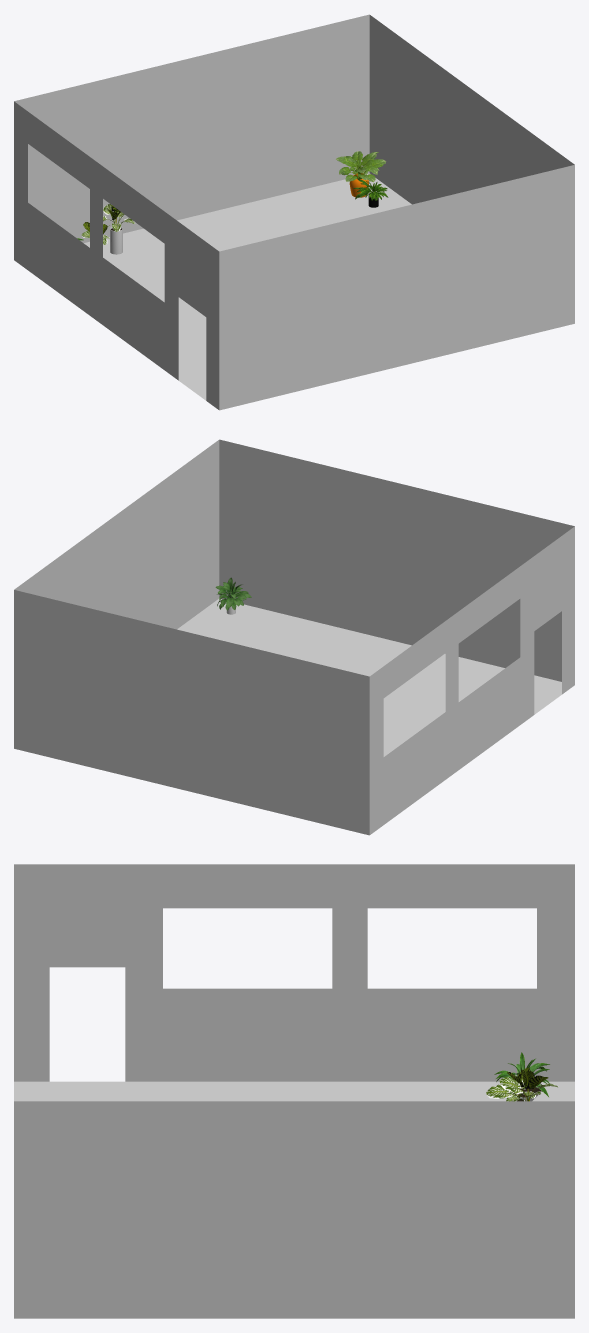
3 renders of one model, top to bottom at view 1: azimuth 30°, elevation 25°; view 2: azimuth 150°, elevation 25°; view 3: azimuth 270°, elevation 25°, orthographic. The views are drawn at different scales.
Parts seen in each view (by area): view 1: 物件_1, 图层 02; view 2: 物件_1, 图层 02; view 3: 物件_1, C4D_2, 图层 02.
Part boxes in pixels (bbox=[...]): 物件_1: bbox=[14, 14, 574, 410]; 图层 02: bbox=[77, 151, 388, 240]; 物件_1: bbox=[14, 439, 574, 835]; 图层 02: bbox=[215, 577, 251, 614]; 物件_1: bbox=[14, 864, 574, 1318]; C4D_2: bbox=[486, 1077, 558, 1101]; 图层 02: bbox=[494, 1052, 549, 1101].
Bounding box in the file's own units: 22754 × 22754 × 9728.
